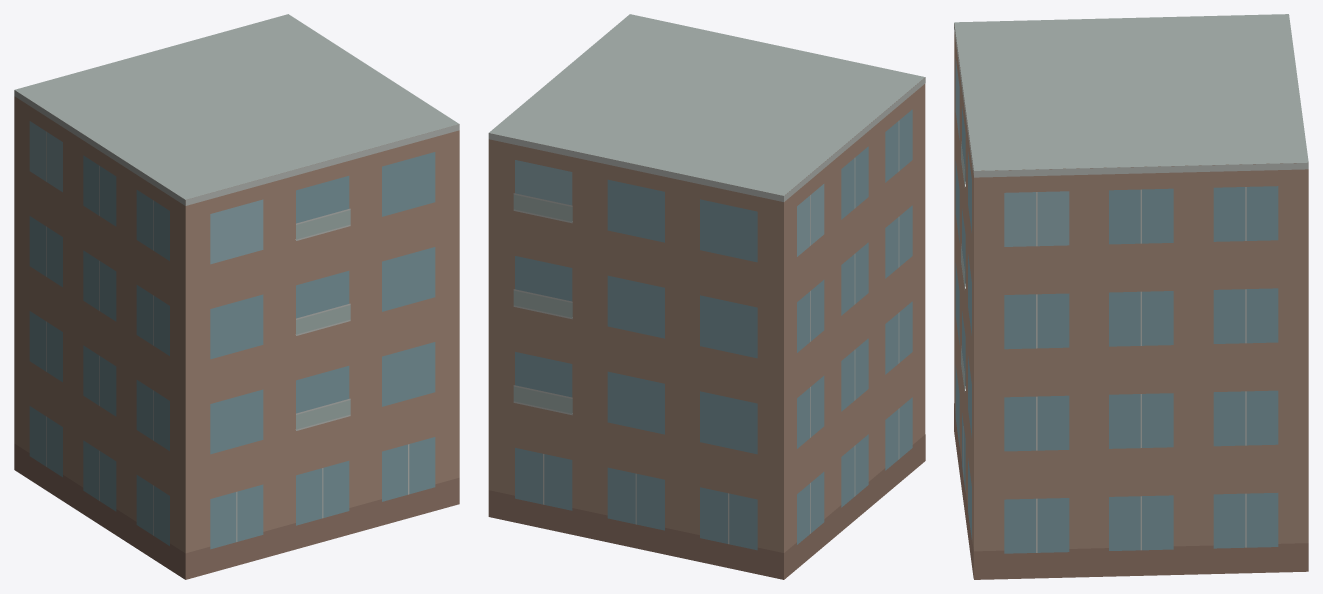
Rendered from survey-upis-32996483.glb.
3 views of the same model, side by side, from view 1: azimuth 30°, elevation 25°; view 2: azimuth 150°, elevation 25°; view 3: azimuth 270°, elevation 25° (orthographic). The views are drawn at different scales.
Parts seen in each view (by area): view 1: survey-upis-32996483.tmp; view 2: survey-upis-32996483.tmp; view 3: survey-upis-32996483.tmp.
Part boxes in pixels (x1=…): survey-upis-32996483.tmp: x1=14, y1=14, x2=459, y2=579; survey-upis-32996483.tmp: x1=488, y1=14, x2=925, y2=579; survey-upis-32996483.tmp: x1=954, y1=14, x2=1308, y2=579.
Size of the model in its own units: 12.37 by 15.01 by 11.81.
